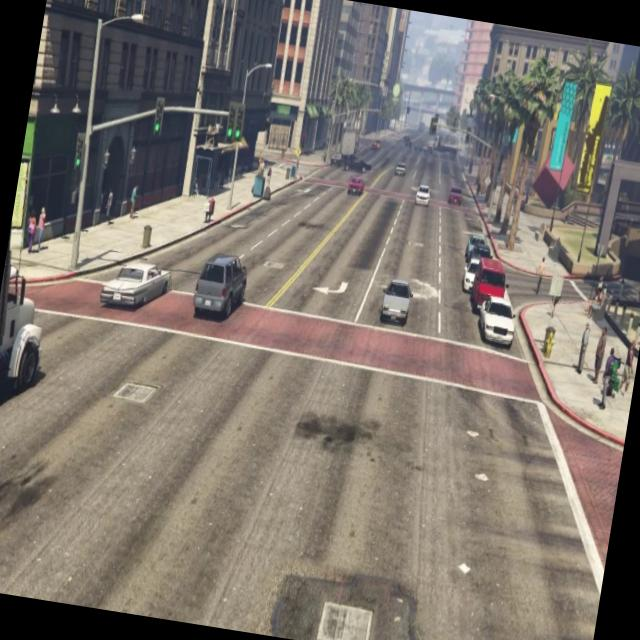Green-Signal: (218, 97, 250, 149), (66, 122, 91, 182), (148, 91, 172, 142)
